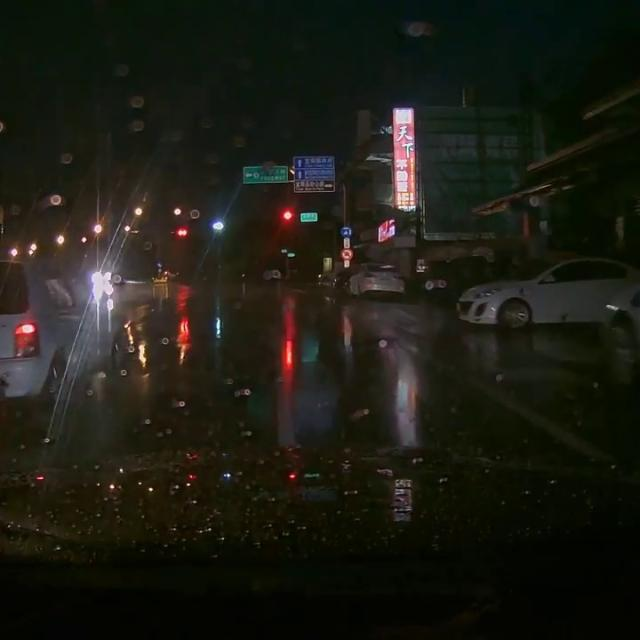Car: (0, 256, 125, 406), (455, 250, 639, 331), (344, 260, 405, 299)
